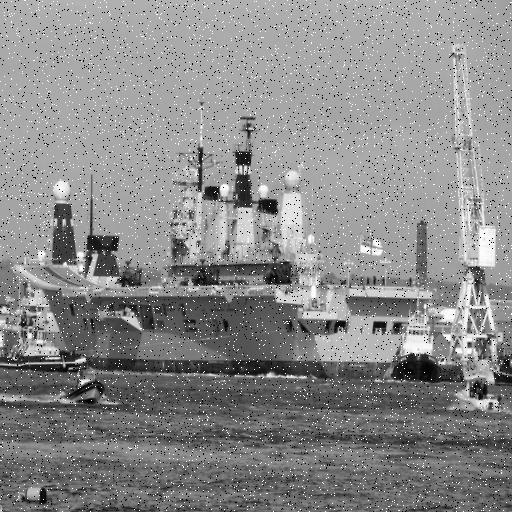Portanaves: (10, 97, 439, 386)
